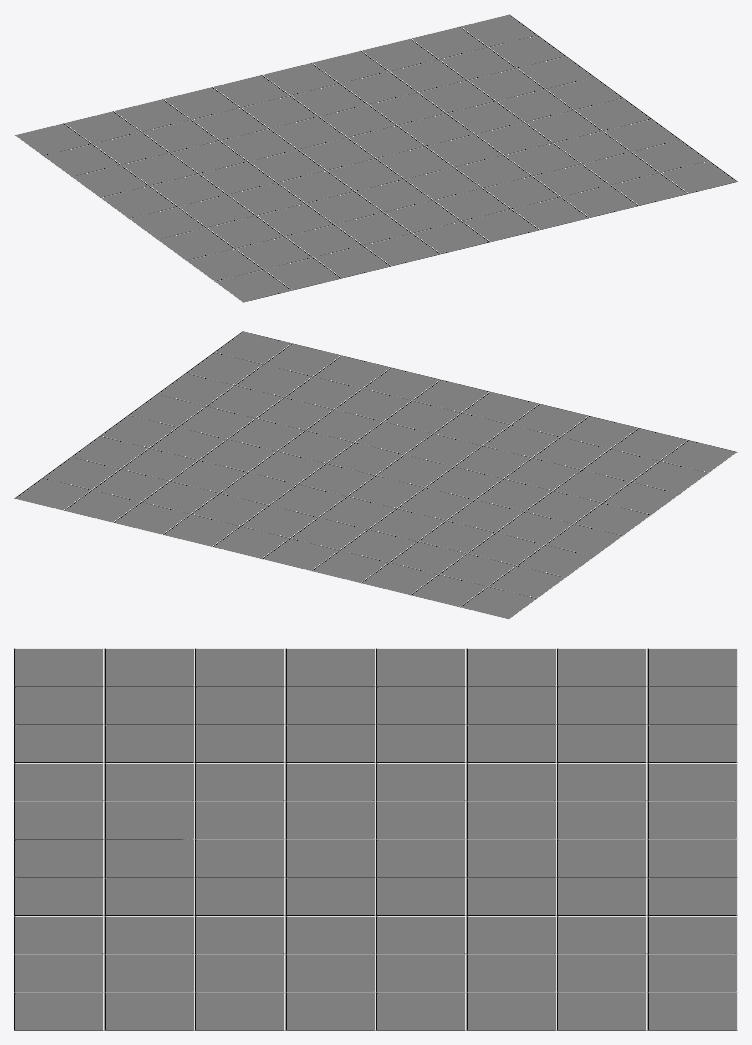
File: roomTemplate_10x8.FBX
3 views of the same model, one above another, from view 1: azimuth 30°, elevation 25°; view 2: azimuth 150°, elevation 25°; view 3: azimuth 270°, elevation 25° (orthographic). The views are drawn at different scales.
Parts seen in each view (by area): view 1: roomTemplate_10x8; view 2: roomTemplate_10x8; view 3: roomTemplate_10x8.
Boxes of the visible parts, x1,y1,x2,y2 form: roomTemplate_10x8: (14,14,737,302); roomTemplate_10x8: (14,331,737,619); roomTemplate_10x8: (14,648,737,1030).
Bounding box in the file's own units: 20 × 6.99e-07 × 16.
Materials: 1 (1 with a texture image).
